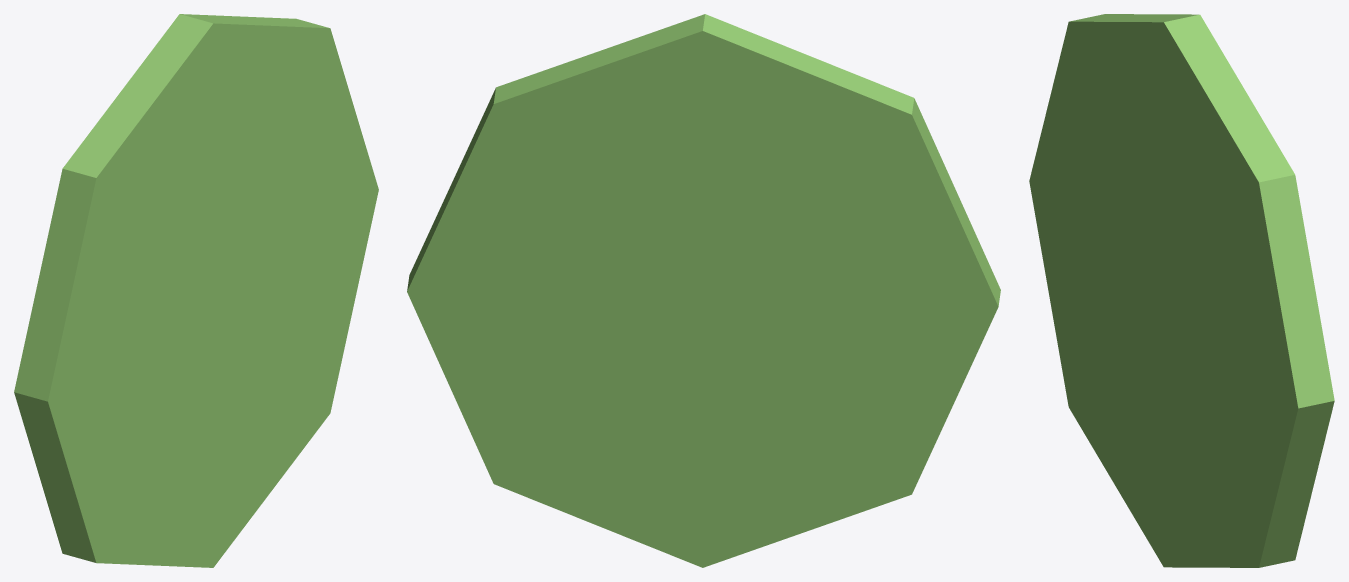
Rendered from Portal_prototyp.fbx.
3 views of the same model, side by side, from view 1: azimuth 30°, elevation 25°; view 2: azimuth 150°, elevation 25°; view 3: azimuth 270°, elevation 25° (orthographic).
Visible parts, largest first — view 1: Teleport Plattform.001; view 2: Teleport Plattform.001; view 3: Teleport Plattform.001.
Part boxes in pixels (left/top/right/bottom): Teleport Plattform.001: left=14, top=14, right=378, bottom=567; Teleport Plattform.001: left=407, top=14, right=1000, bottom=567; Teleport Plattform.001: left=1029, top=14, right=1334, bottom=567.
Size of the model in its own units: 0.1976 by 0.2137 by 0.1085.
